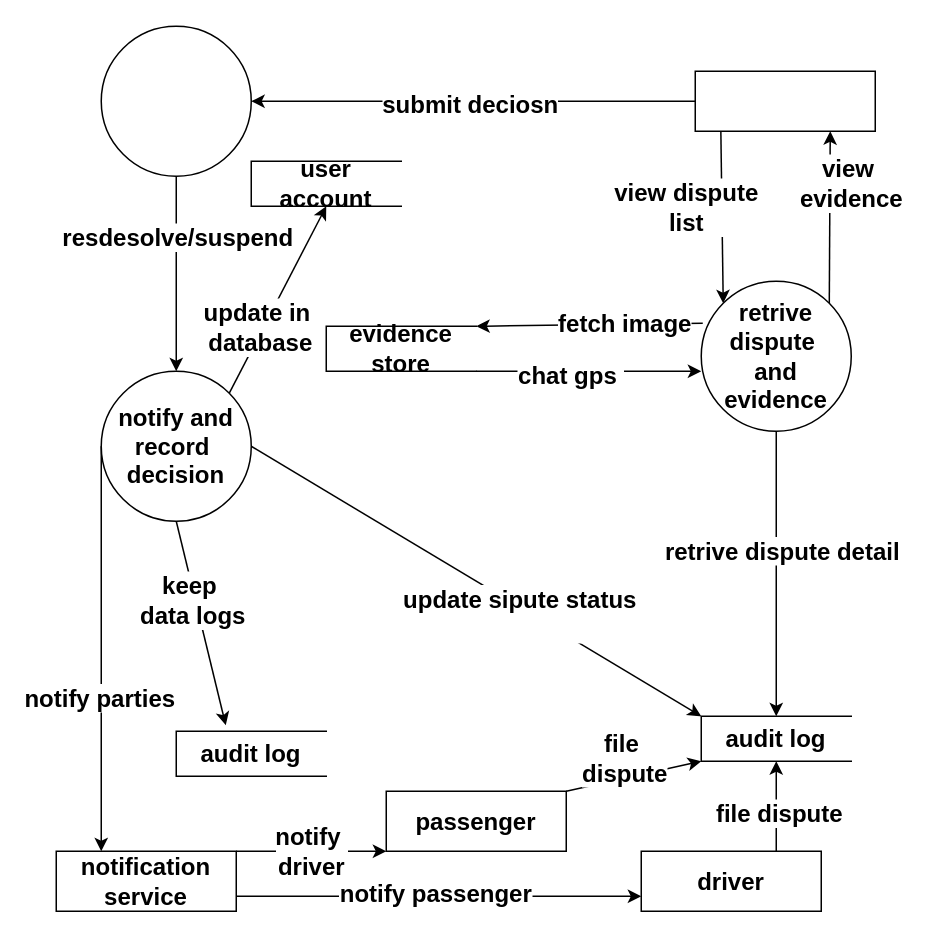
This 929x938 diagram has some shape labels left out. Each missing label, with the box of its shape:
adjucate dispute: (100, 25, 251, 176)
admin: (694, 70, 875, 131)
